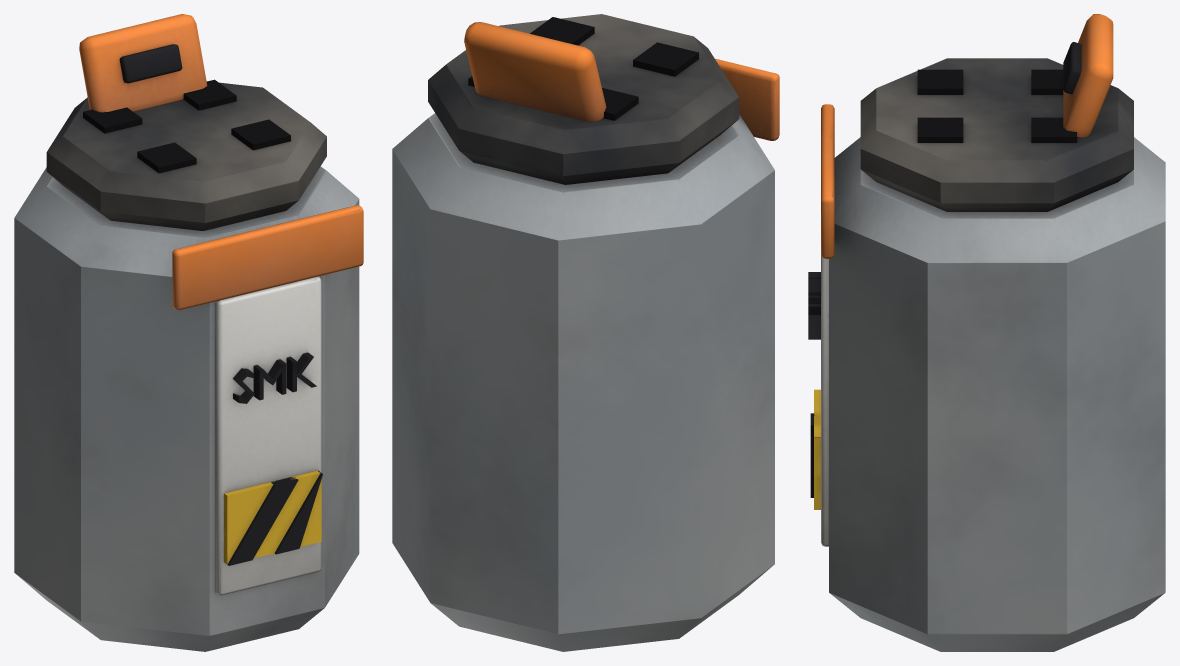
The model's file is smoke_can.fbx.
3 views of the same model, side by side, from view 1: azimuth 30°, elevation 25°; view 2: azimuth 150°, elevation 25°; view 3: azimuth 270°, elevation 25° (orthographic). The views are drawn at different scales.
Visible parts, largest first — view 1: Body; view 2: Body; view 3: Body.
Part boxes in pixels (x1=…): Body: x1=14, y1=14, x2=363, y2=651; Body: x1=392, y1=14, x2=779, y2=651; Body: x1=808, y1=14, x2=1165, y2=651.
Bounding box in the file's own units: 0.2956 × 0.5384 × 0.3138.
Materials: 1 (1 with a texture image).
